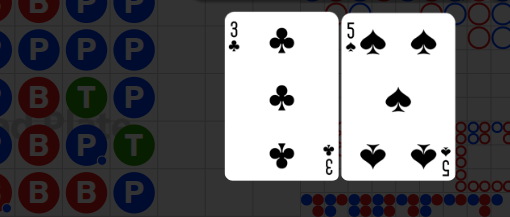3C: (228, 20, 242, 54)
5S: (439, 145, 452, 177)
